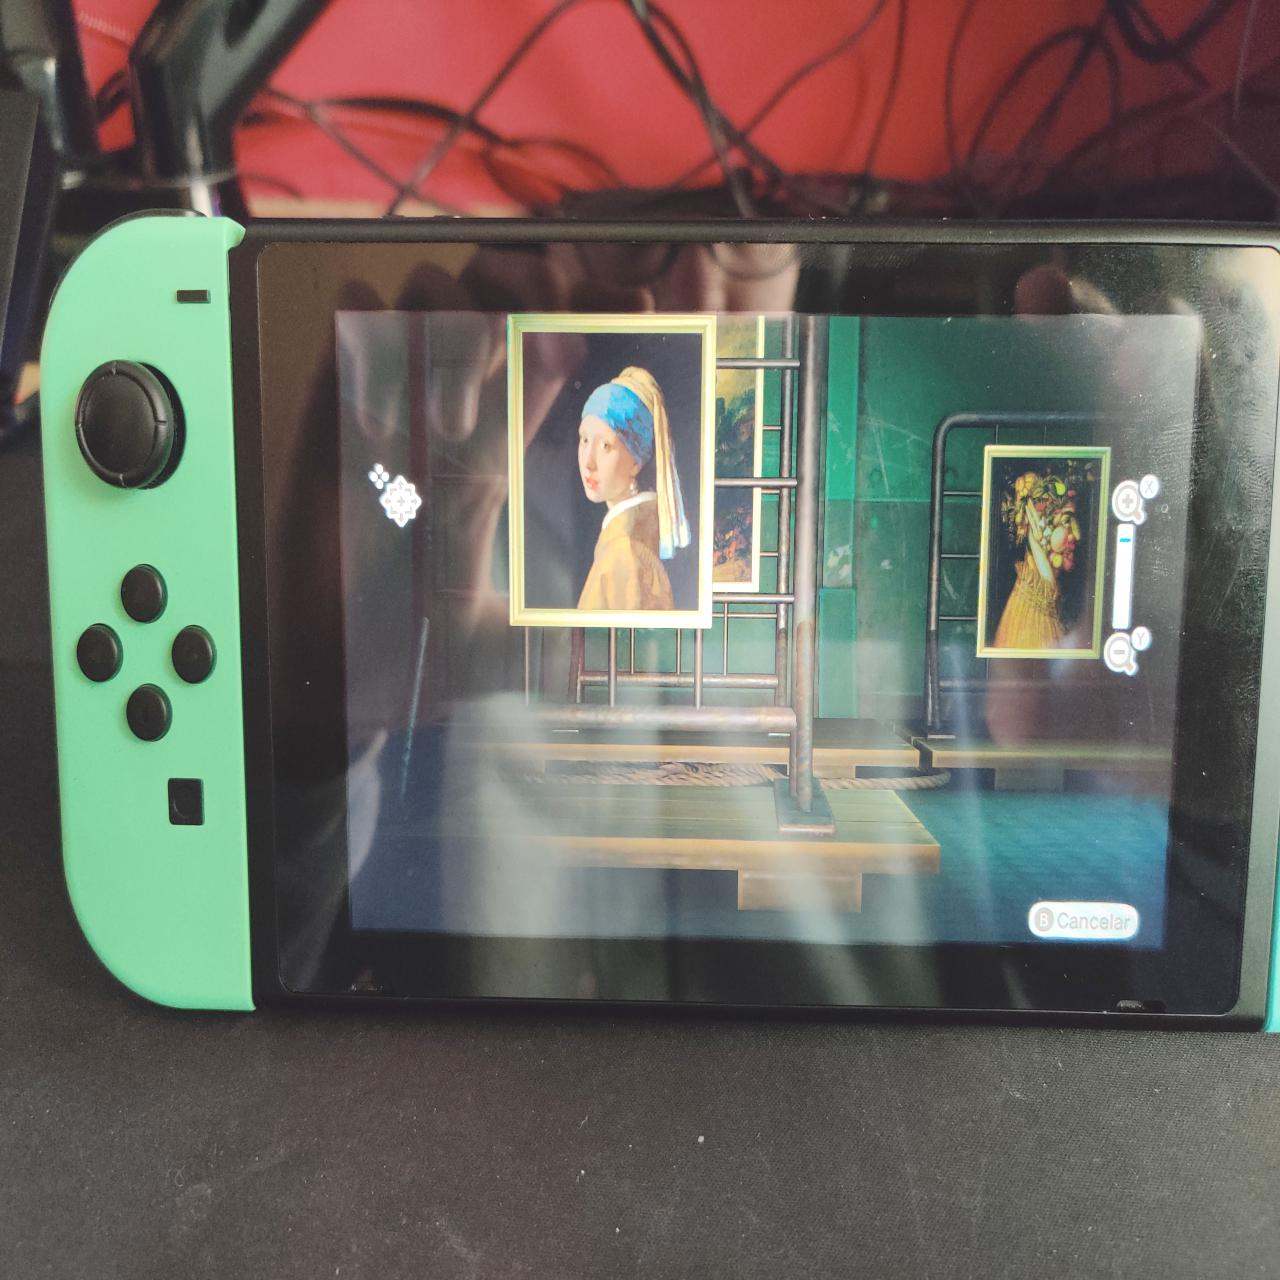PearlEarring: (524, 332, 697, 614)
SummerFake: (990, 456, 1098, 652)
